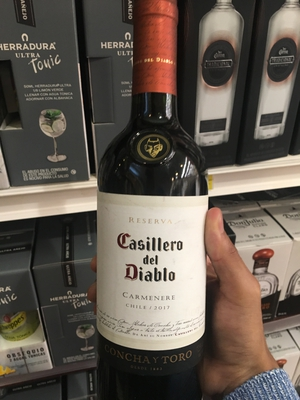casillero del diablo carmenere: (91, 5, 227, 400)
